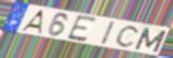6: (45, 12, 71, 38)
A: (19, 10, 45, 36)
C: (114, 25, 141, 49)
E: (65, 14, 99, 43)
I: (100, 20, 117, 46)
M: (133, 26, 169, 54)
